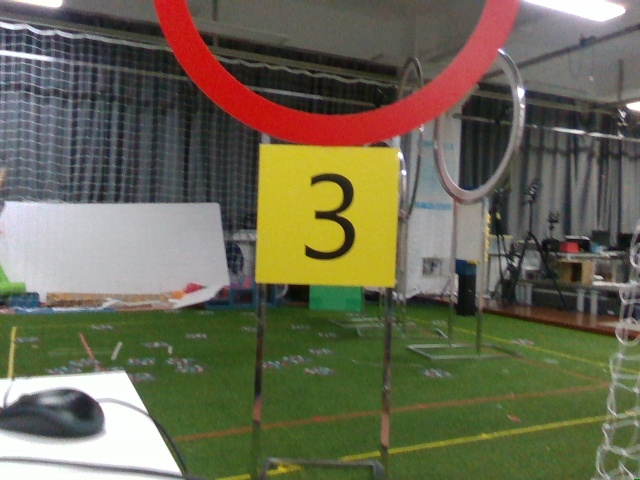target: (270, 158, 390, 280)
